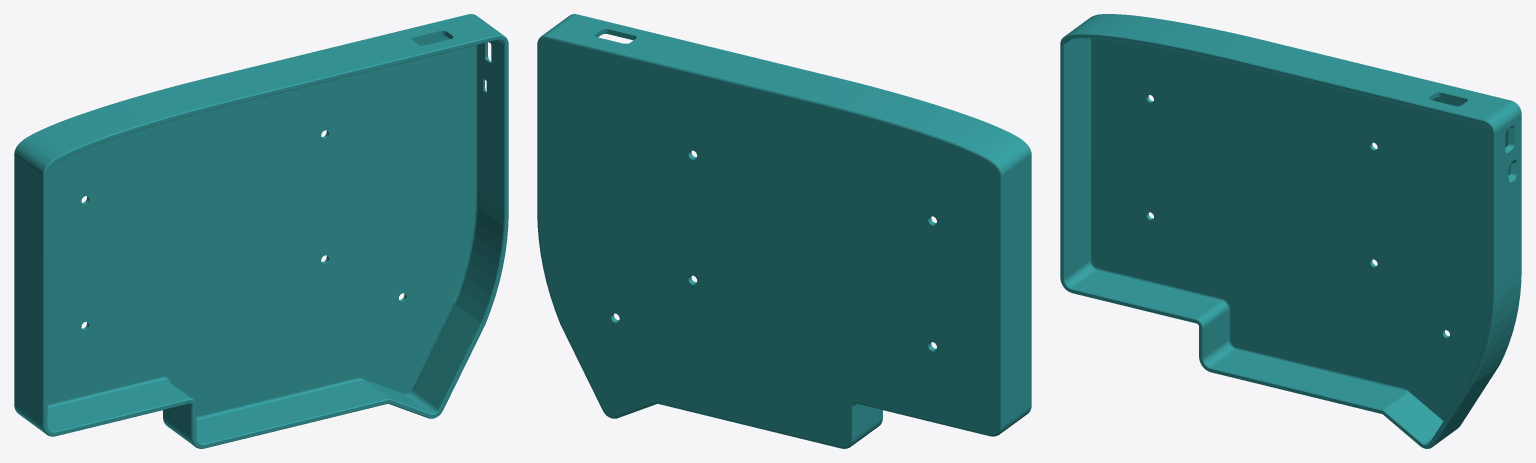
Rendered from case-bottom-3dp.glb.
3 views of the same model, side by side, from view 1: azimuth 30°, elevation 25°; view 2: azimuth 150°, elevation 25°; view 3: azimuth 330°, elevation 25° (orthographic). The views are drawn at different scales.
Size of the model in its own units: 0.1477 by 0.1114 by 0.0165.
